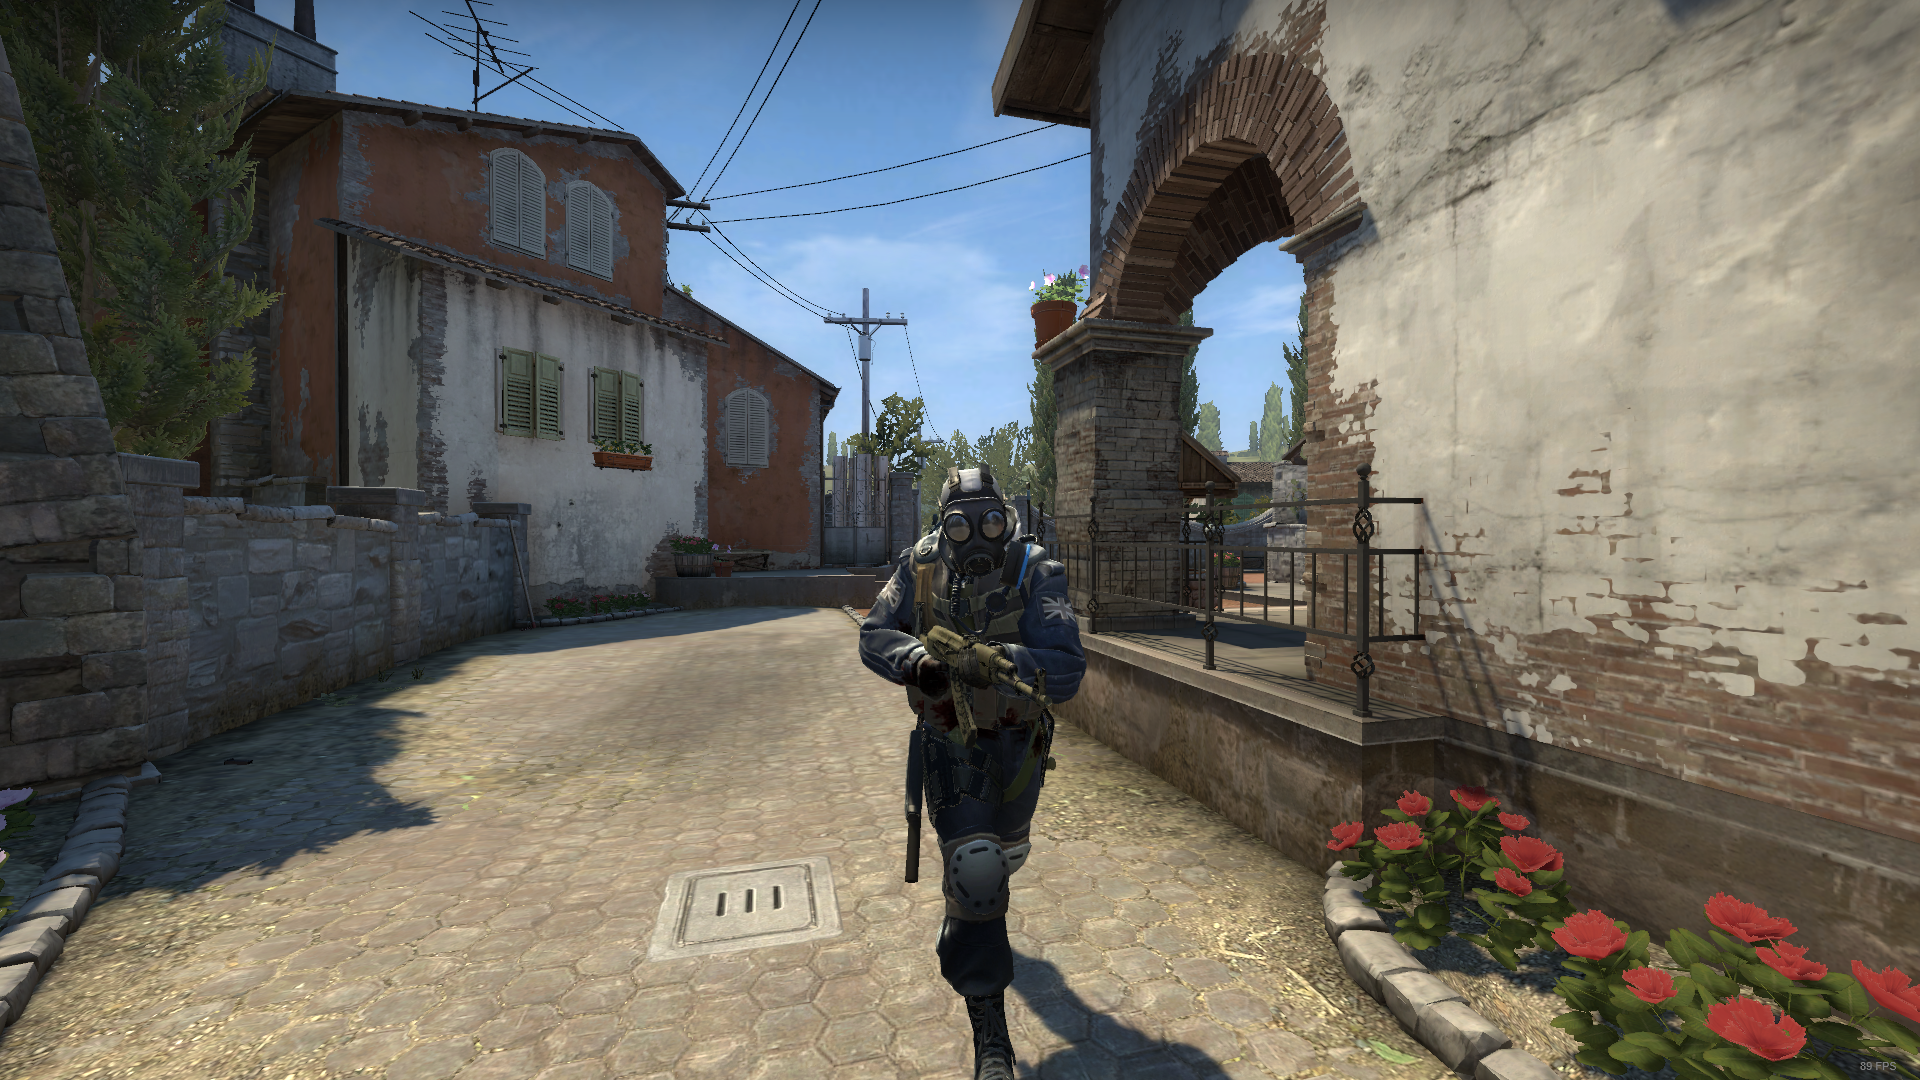ct: (869, 458, 1083, 1080)
